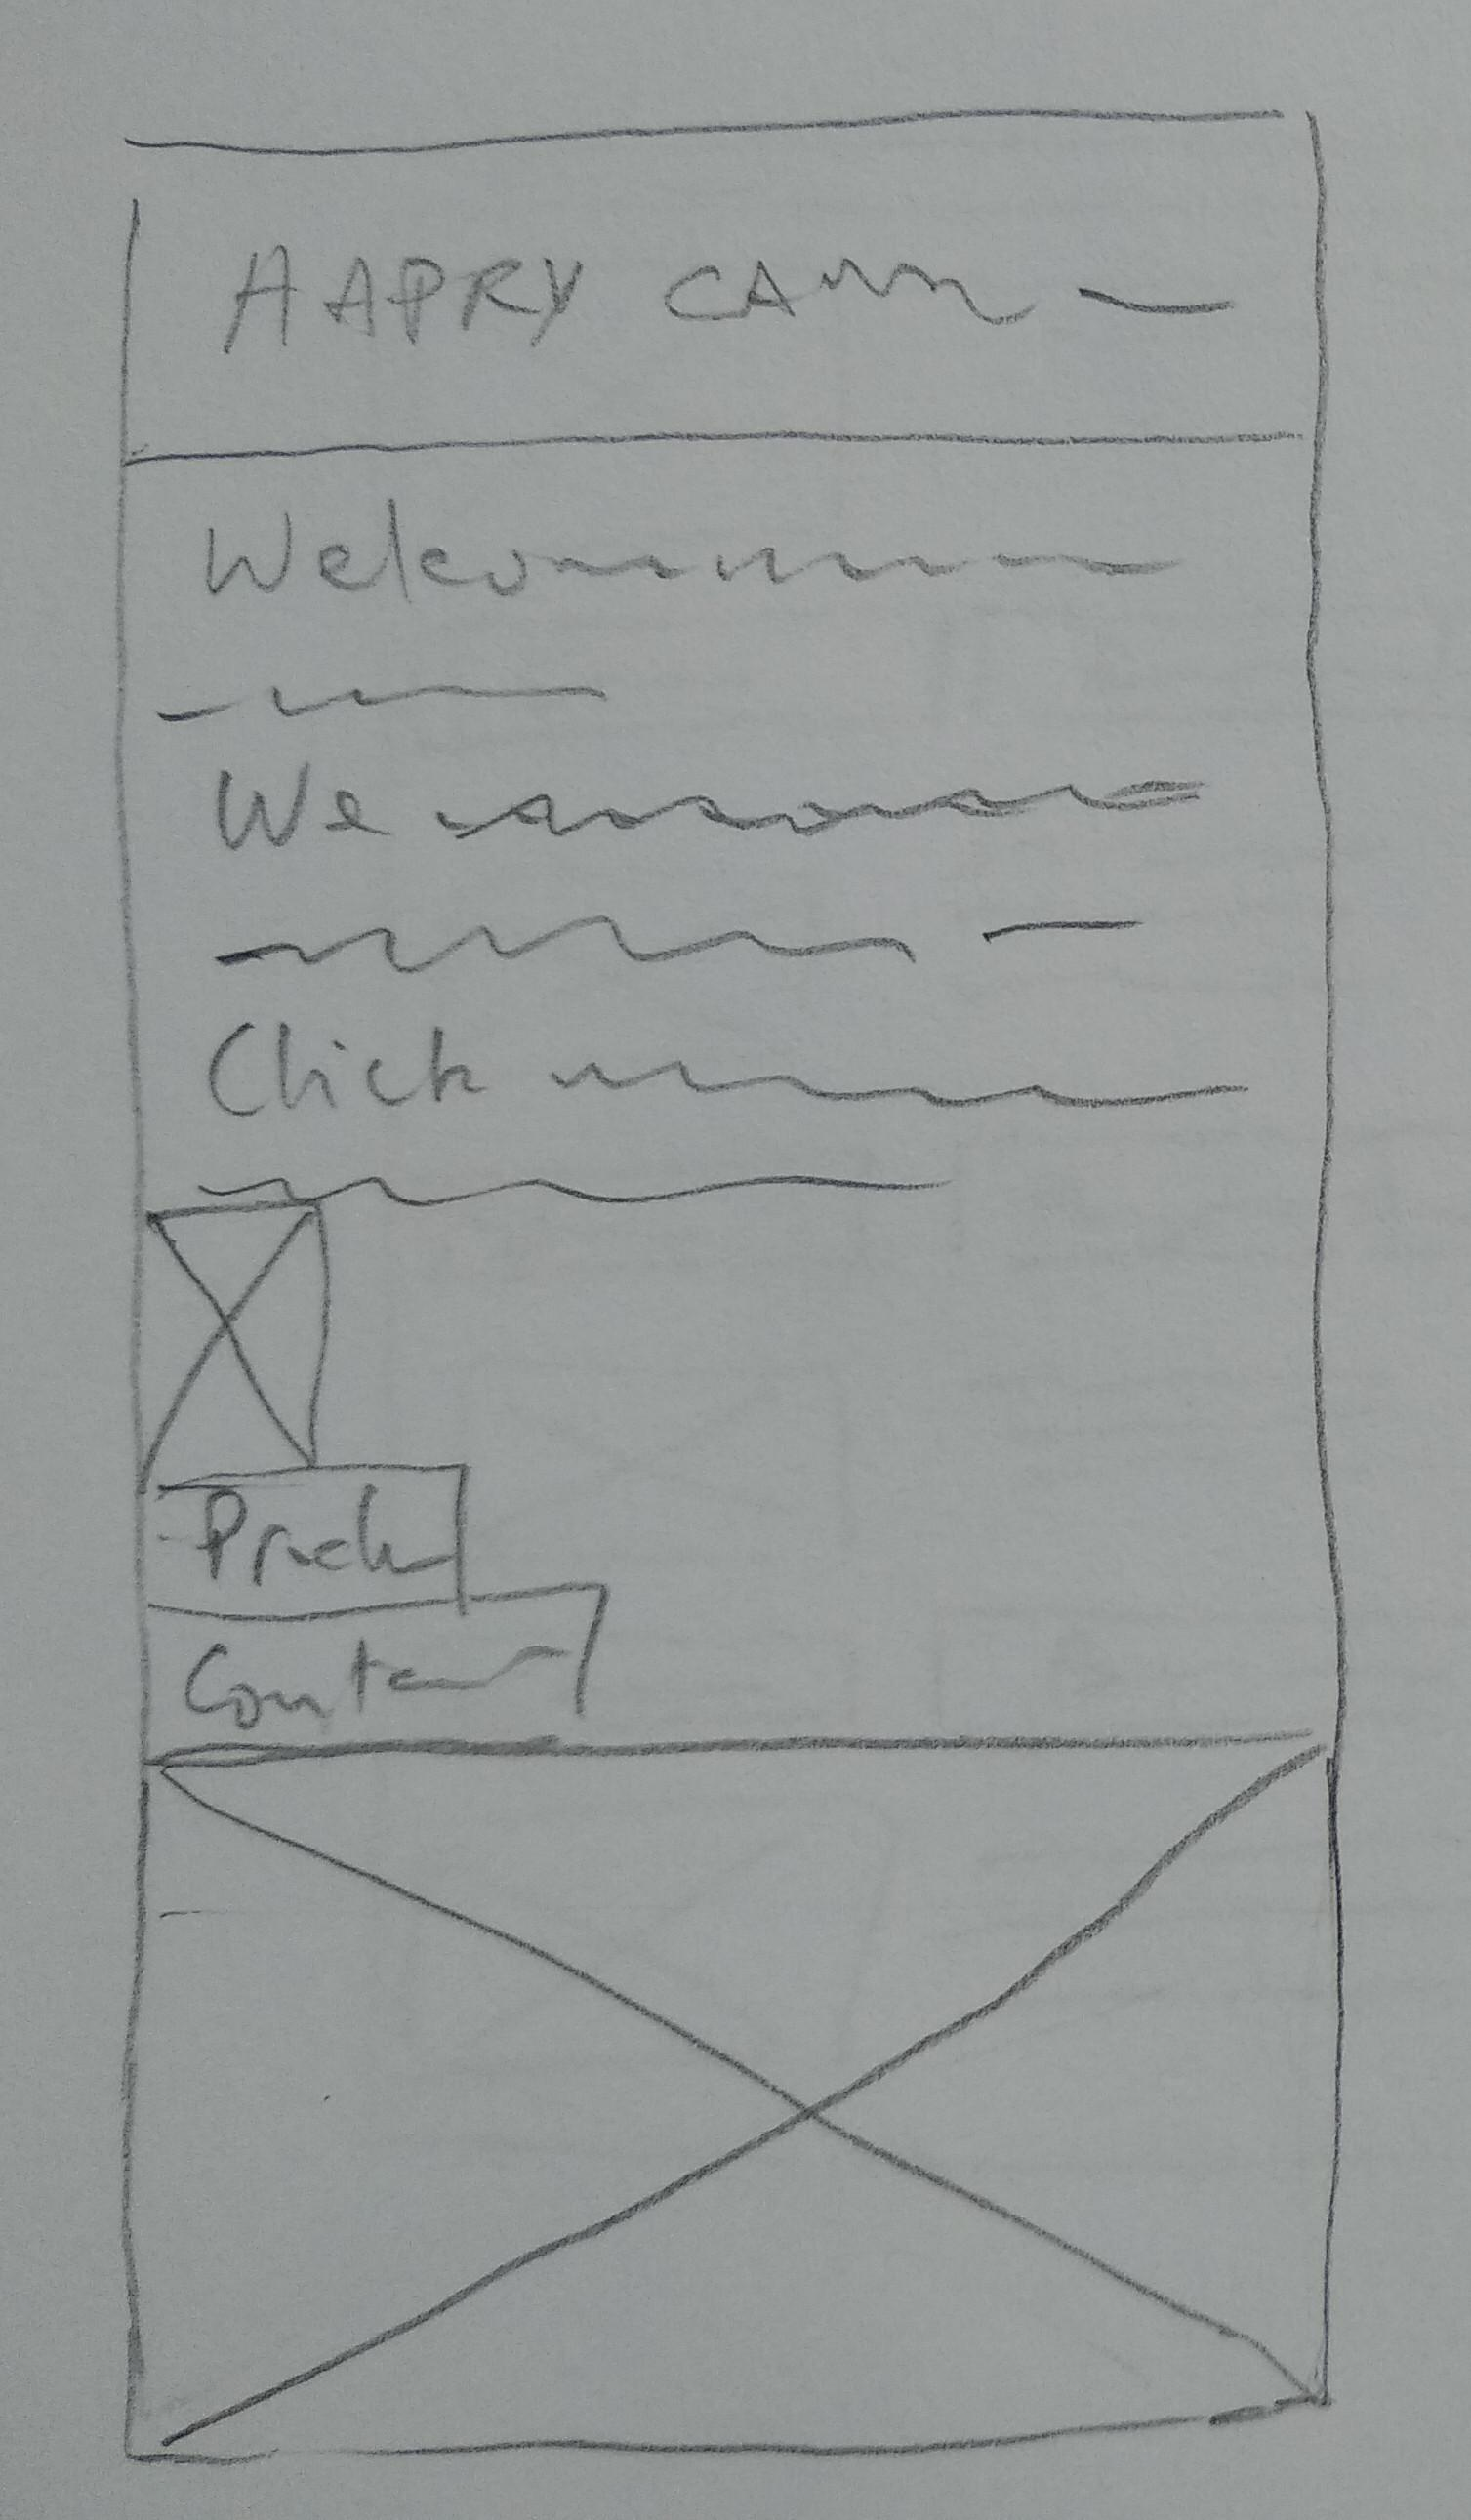Button: (144, 1582, 606, 1767), (142, 1468, 468, 1613)
Image: (121, 1731, 1345, 2466), (142, 1204, 329, 1480)
Label: (208, 1004, 1254, 1122), (212, 236, 1254, 353), (212, 756, 1210, 856), (194, 504, 1187, 602), (208, 905, 1147, 973), (201, 1158, 960, 1206), (151, 672, 611, 726)
Screen: (117, 101, 1350, 2473)
